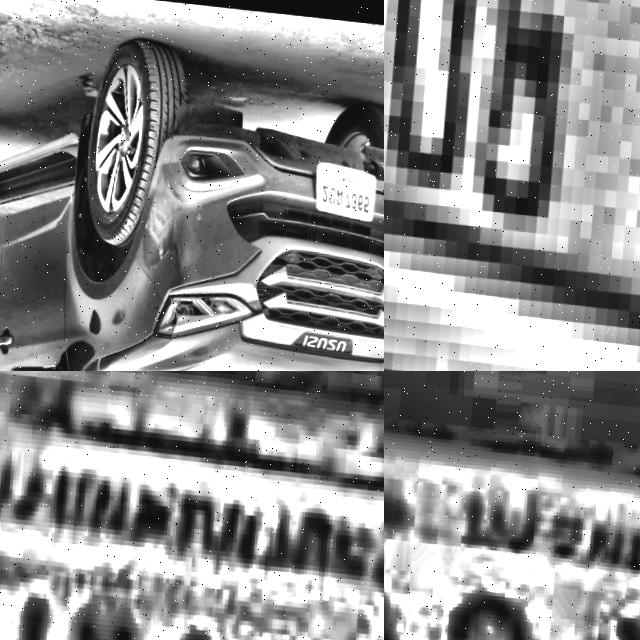license-plate: (0, 371, 384, 640), (384, 0, 640, 371), (384, 412, 640, 640), (312, 147, 380, 215)
